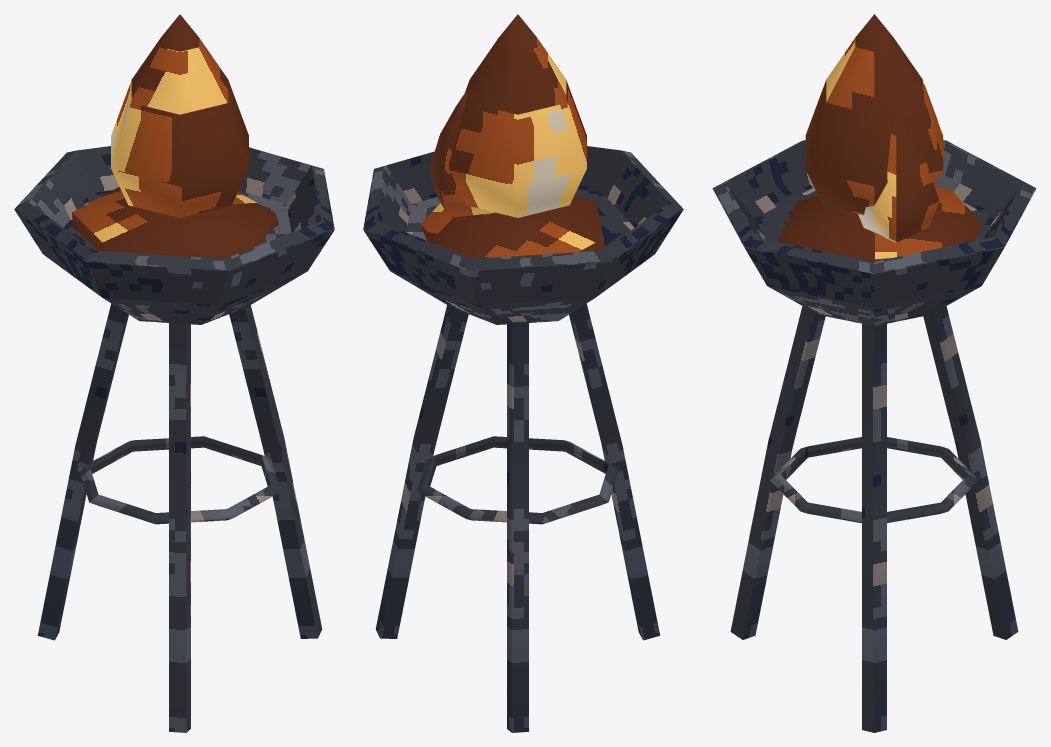
The model's file is dprop.brazier__tall.glb.
3 views of the same model, side by side, from view 1: azimuth 30°, elevation 25°; view 2: azimuth 150°, elevation 25°; view 3: azimuth 270°, elevation 25° (orthographic).
Visible parts, largest first — view 1: kit_legs, kit_bowl, kit_flame, kit_coals; view 2: kit_legs, kit_bowl, kit_flame, kit_coals; view 3: kit_legs, kit_bowl, kit_flame, kit_coals.
Part boxes in pixels (<box>): kit_legs: <box>37,303,322,732</box>; kit_bowl: <box>14,146,334,324</box>; kit_flame: <box>111,14,248,217</box>; kit_coals: <box>72,186,278,258</box>; kit_legs: <box>375,303,660,732</box>; kit_bowl: <box>363,146,683,324</box>; kit_flame: <box>429,14,586,219</box>; kit_coals: <box>420,194,604,258</box>; kit_legs: <box>730,306,1018,732</box>; kit_bowl: <box>712,140,1036,325</box>; kit_flame: <box>805,14,943,242</box>; kit_coals: <box>778,187,983,261</box>.
Bounding box in the file's own units: 0.8744 × 2 × 0.8969.
2 materials, 2 textured.
